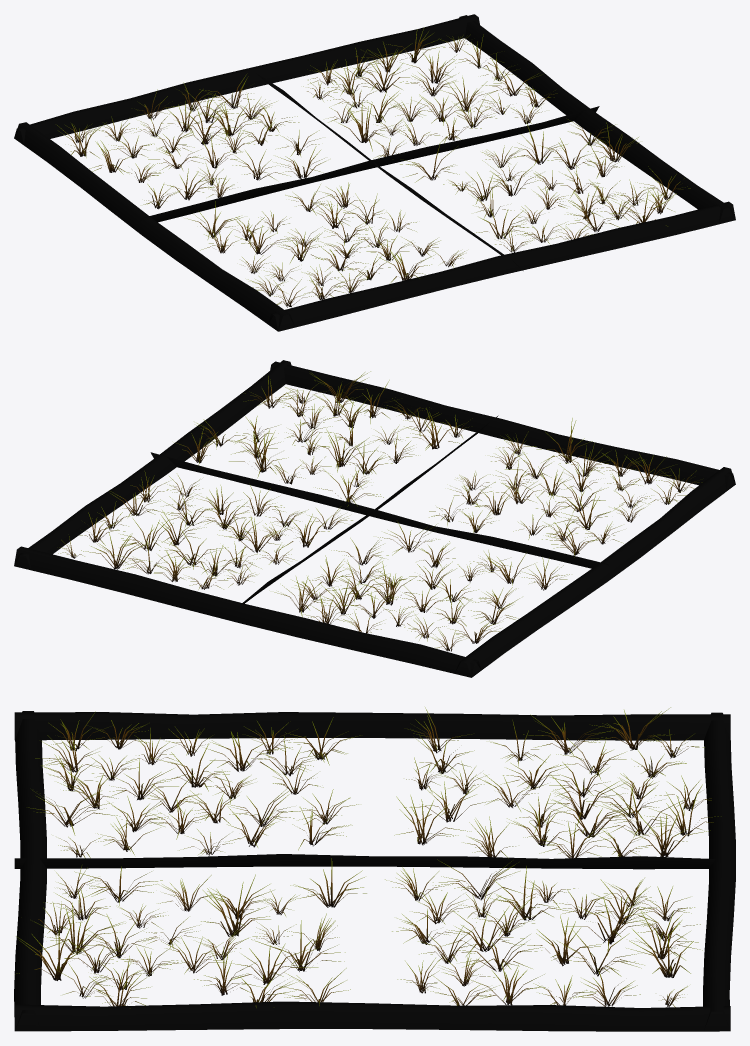
The model's file is patch_paddy_quad.glb.
The picture shows the model from 3 angles, top to bottom: view 1: azimuth 30°, elevation 25°; view 2: azimuth 150°, elevation 25°; view 3: azimuth 270°, elevation 25°; orthographic projection. The views are drawn at different scales.
Parts seen in each view (by area): view 1: patch_paddy_quad; view 2: patch_paddy_quad; view 3: patch_paddy_quad.
Boxes of the visible parts, x1,y1,x2,y2 form: patch_paddy_quad: (14,14,735,331); patch_paddy_quad: (14,360,735,677); patch_paddy_quad: (14,707,735,1031).
Size of the model in its own units: 12.11 by 0.889 by 12.11.
Materials: 1 (1 with a texture image).
